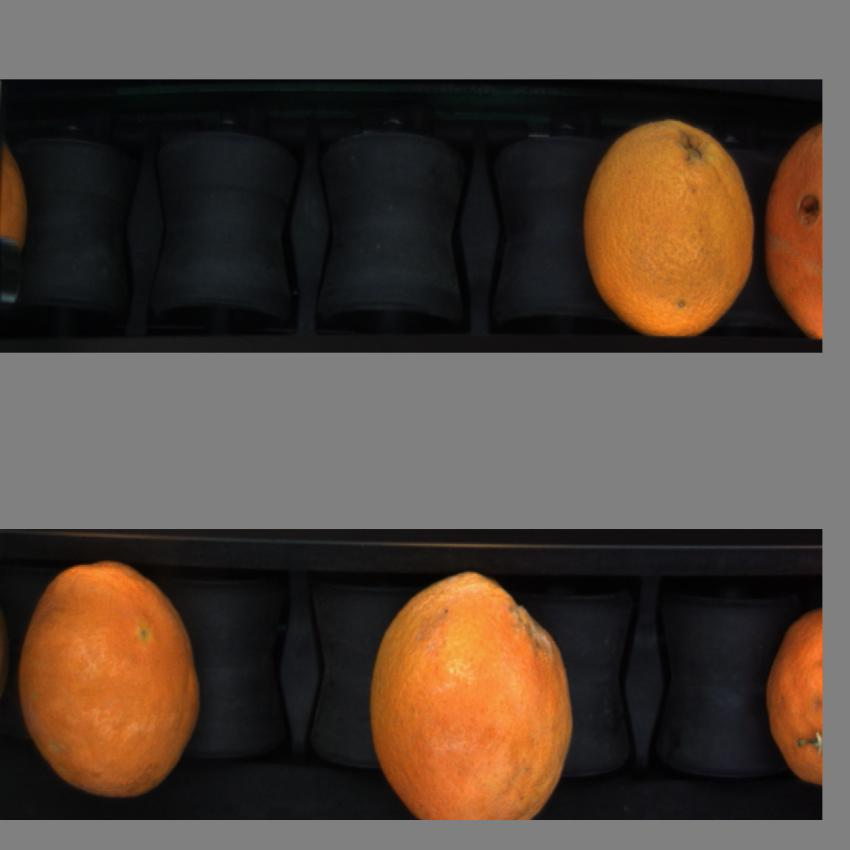Buen estado: (366, 566, 579, 823), (579, 112, 758, 343)
Mal estado: (15, 552, 205, 798), (765, 121, 826, 341), (763, 606, 821, 788)
